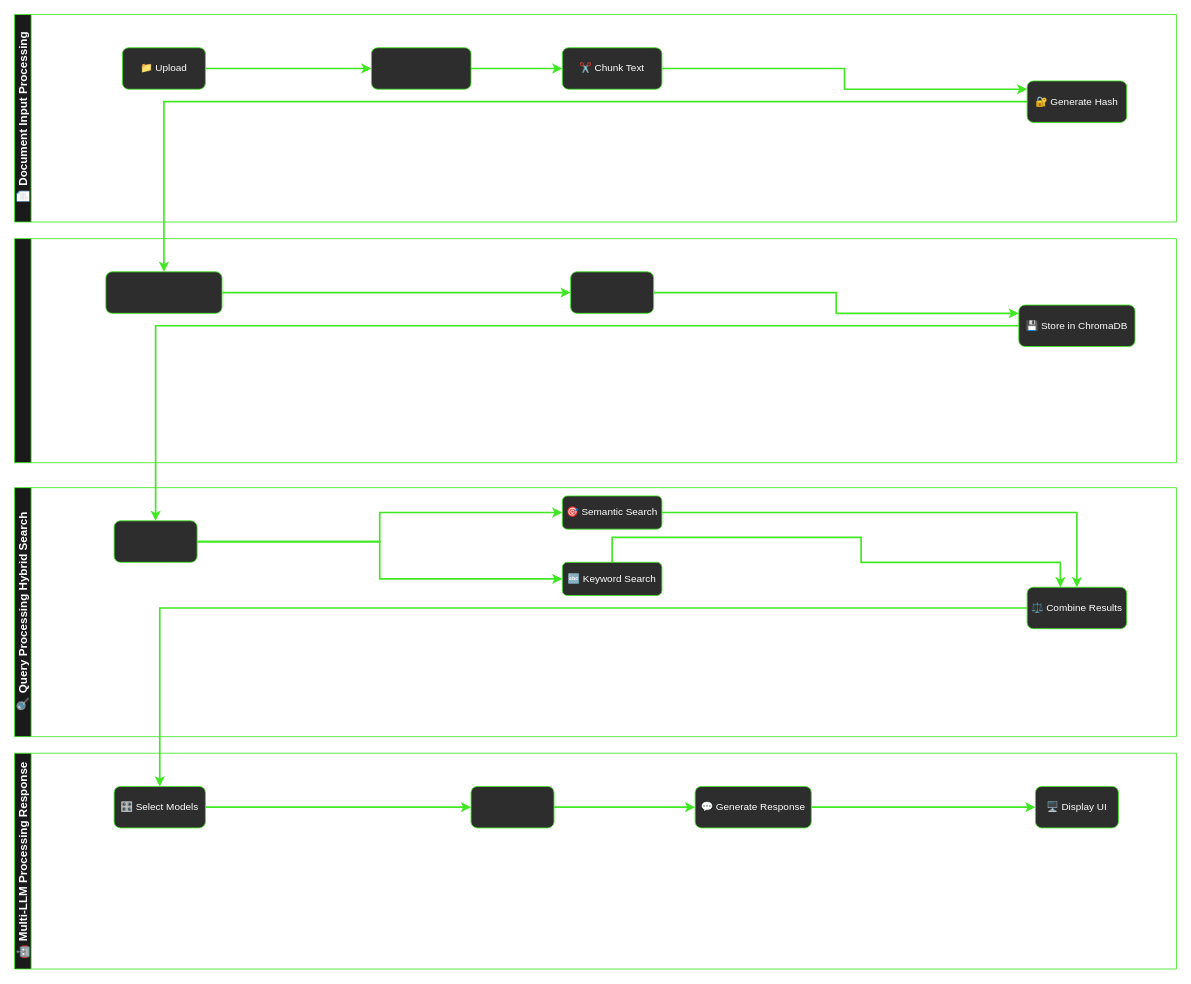
This 1191x984 diagram has some shape labels left out. Each missing label, with the box of its shape:
⚡ Groq API: (470, 786, 554, 828)
❓ User Query: (113, 520, 197, 562)
📊 Vectorize: (570, 271, 654, 313)
📝 Extract Text: (371, 47, 471, 89)
🔗 Text Embedding Layer: (14, 238, 1177, 463)
🧠 Create Embeddings: (105, 271, 222, 313)
